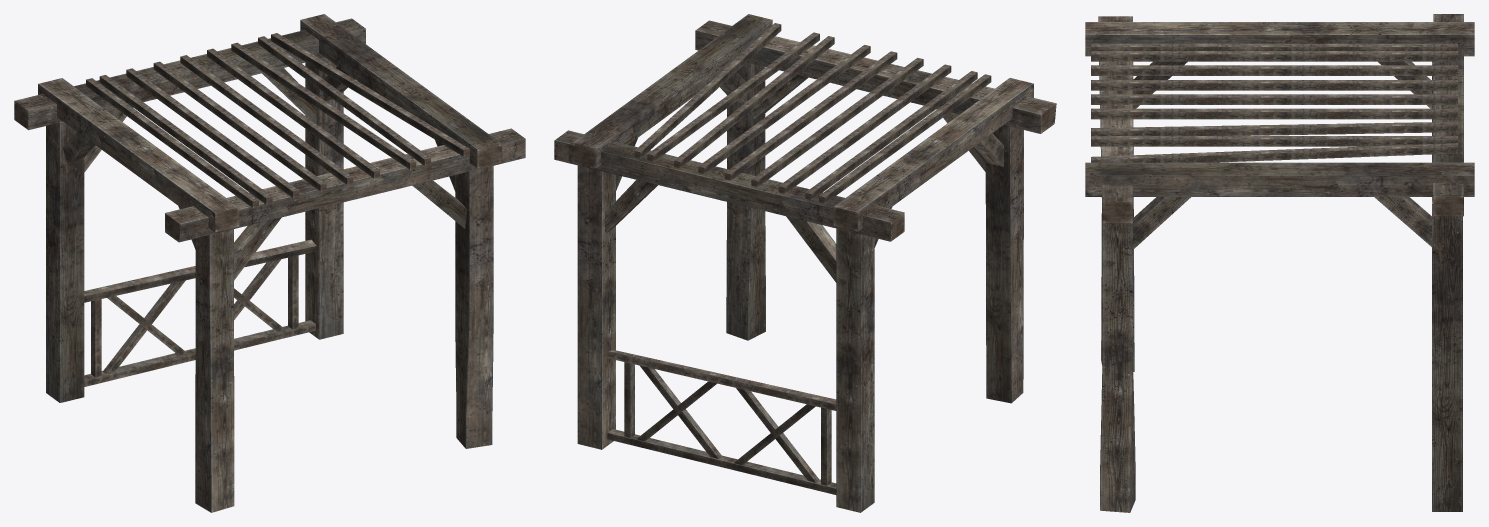
Rendered from SM_Canopy01.FBX.
3 views of the same model, side by side, from view 1: azimuth 30°, elevation 25°; view 2: azimuth 150°, elevation 25°; view 3: azimuth 270°, elevation 25° (orthographic). The views are drawn at different scales.
Parts seen in each view (by area): view 1: SM_Canopy01; view 2: SM_Canopy01; view 3: SM_Canopy01.
Part boxes in pixels (box(x1,y1,x2,y2)): SM_Canopy01: box(14, 14, 525, 512); SM_Canopy01: box(554, 14, 1056, 512); SM_Canopy01: box(1085, 14, 1474, 512).
Size of the model in its own units: 366 by 309 by 324.
